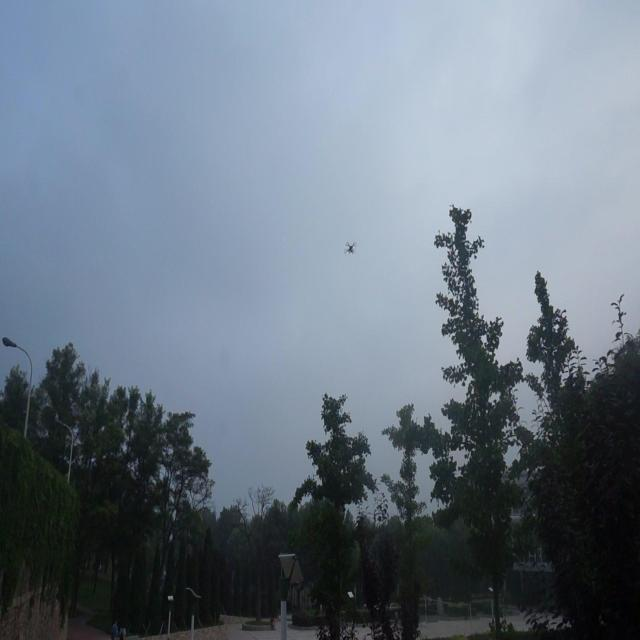drone: (344, 238, 356, 256)
